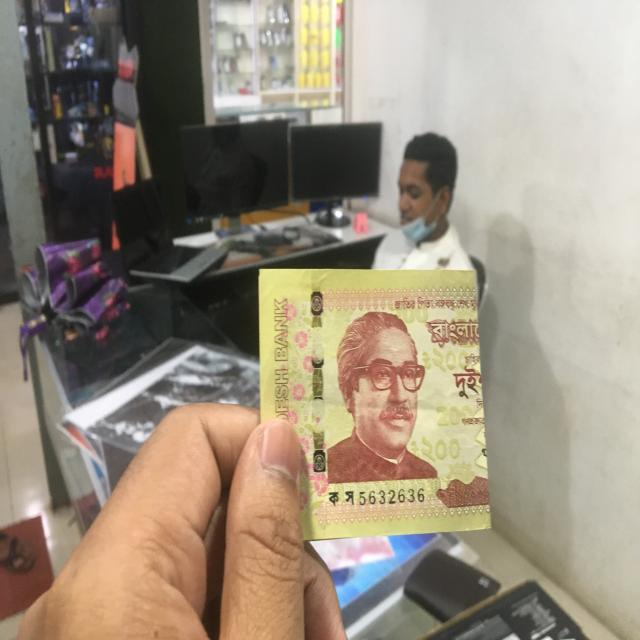Taka: (257, 266, 487, 534)
